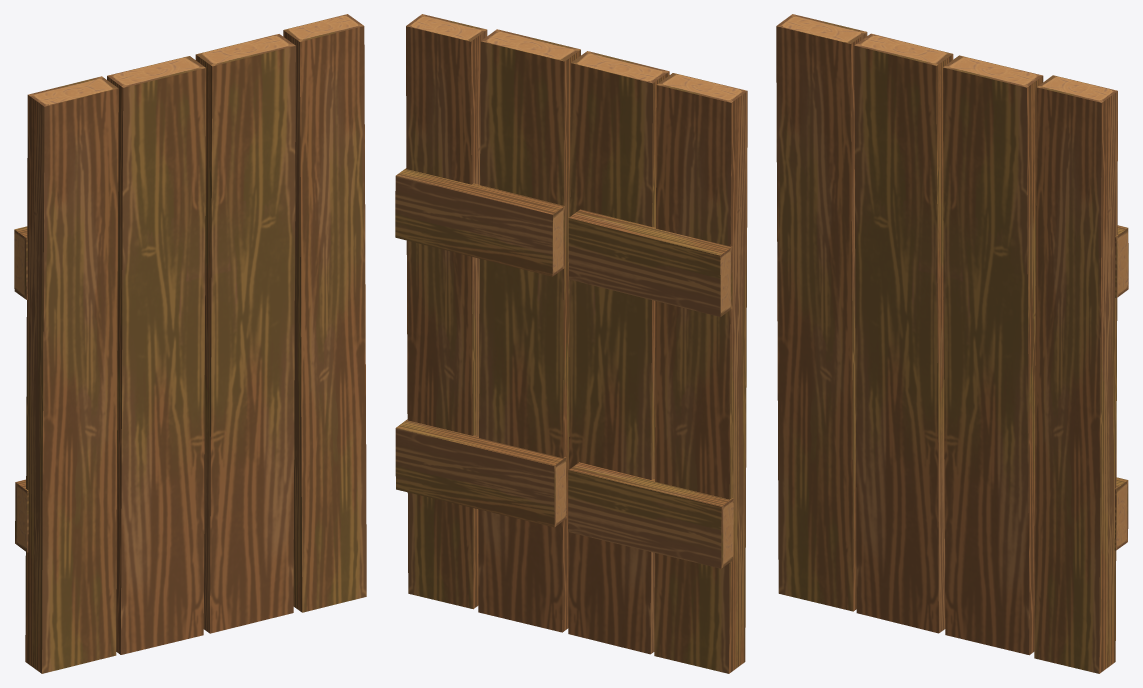
Rendered from WindowShutters_Thin_Flat_Closed.obj.
3 views of the same model, side by side, from view 1: azimuth 30°, elevation 25°; view 2: azimuth 150°, elevation 25°; view 3: azimuth 330°, elevation 25° (orthographic).
Parts seen in each view (by area): view 1: WindowShutters_Thin_Flat_Closed; view 2: WindowShutters_Thin_Flat_Closed; view 3: WindowShutters_Thin_Flat_Closed.
Boxes of the visible parts, x1,y1,x2,y2 form: WindowShutters_Thin_Flat_Closed: [14, 14, 366, 673]; WindowShutters_Thin_Flat_Closed: [395, 14, 747, 673]; WindowShutters_Thin_Flat_Closed: [776, 14, 1128, 673].
Size of the model in its own units: 0.8518 by 1.42 by 0.1358.
